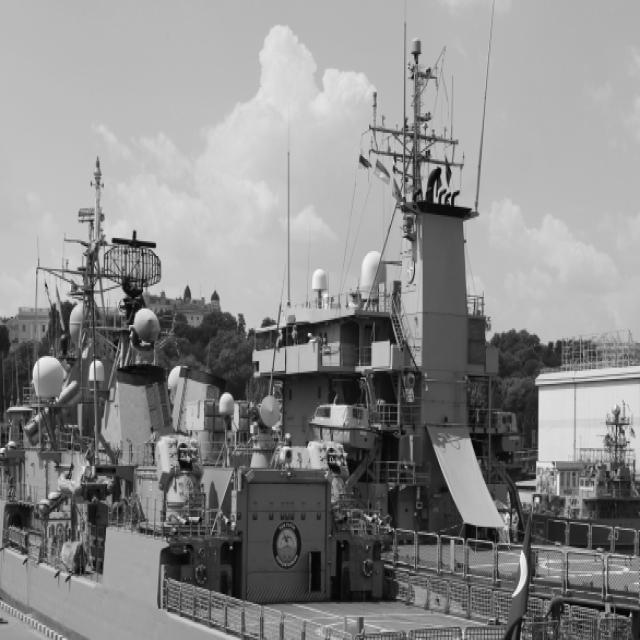Fragata: (1, 152, 640, 640)
